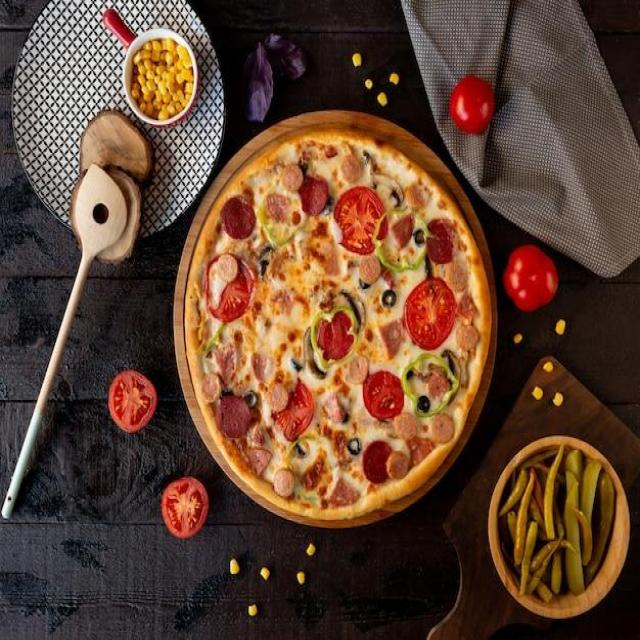olive: (258, 248, 274, 276), (416, 392, 433, 414), (382, 289, 396, 309), (424, 255, 434, 281), (244, 387, 258, 404), (414, 226, 427, 244), (347, 439, 362, 454), (299, 156, 310, 174), (359, 274, 370, 290), (342, 410, 351, 426), (294, 443, 305, 456), (218, 391, 235, 398), (326, 195, 333, 211), (406, 366, 414, 380)
pepperoni: (220, 197, 257, 240), (428, 220, 457, 263), (218, 397, 249, 436), (299, 173, 326, 216), (364, 442, 390, 478), (392, 213, 412, 245), (409, 433, 430, 455), (378, 219, 387, 238)
pizza: (181, 130, 495, 524)
